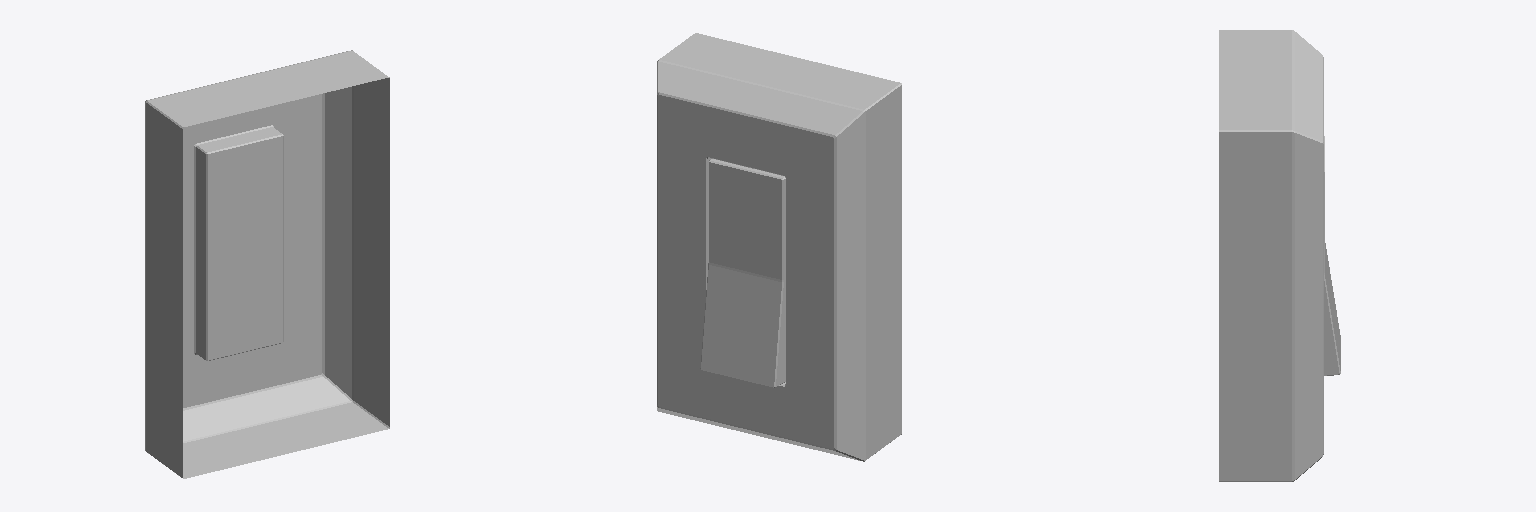
File: lightSwitch.obj
3 renders of one model, left to right at view 1: azimuth 30°, elevation 25°; view 2: azimuth 150°, elevation 25°; view 3: azimuth 270°, elevation 25°, orthographic.
Parts seen in each view (by area): view 1: Light_switch.003; view 2: Light_switch.003; view 3: Light_switch.003.
Boxes of the visible parts, box(x1,y1,x2,y2) form: Light_switch.003: box(145, 50, 389, 478); Light_switch.003: box(657, 33, 901, 461); Light_switch.003: box(1219, 30, 1340, 481).
Size of the model in its own units: 0.093 by 0.1504 by 0.0473.